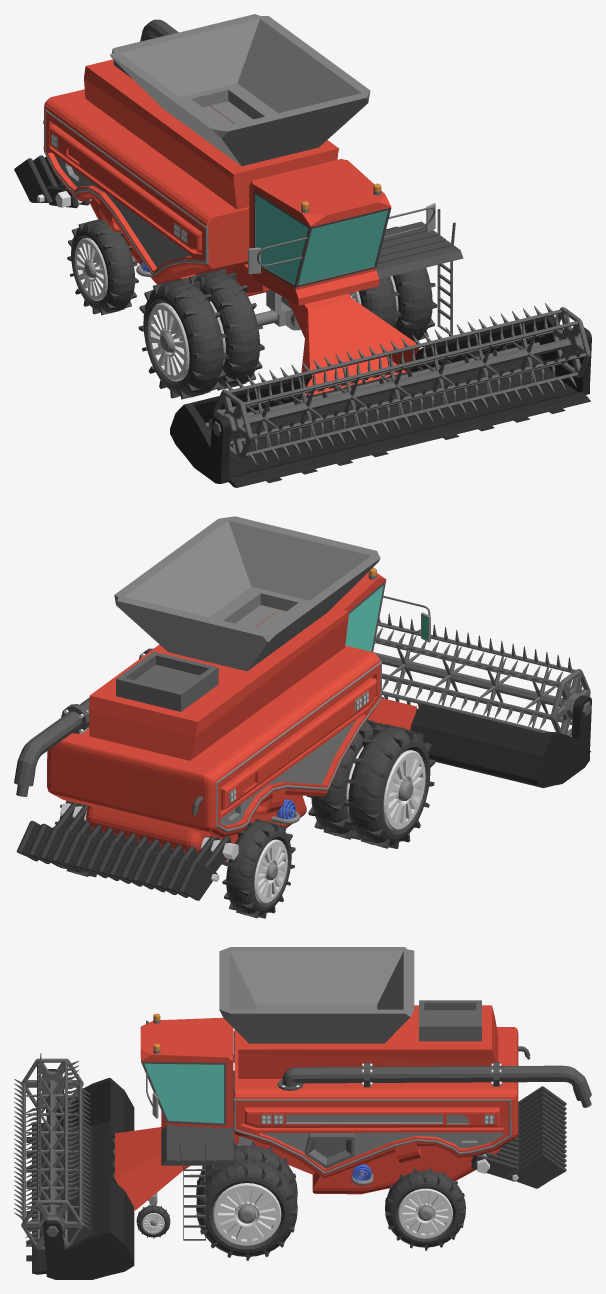
The model's file is harvester w.glass.fbx.
The picture shows the model from 3 angles, top to bottom: view 1: azimuth 30°, elevation 25°; view 2: azimuth 150°, elevation 25°; view 3: azimuth 270°, elevation 25°; orthographic projection. The views are drawn at different scales.
Parts seen in each view (by area): view 1: harvester.001, cutterbar.001, cutterblades.001, wheel04.001, whell06.001, whell03.001, harvesterback.001, platformauger.001; view 2: harvester.001, wheel04.001, harvesterback.001, cutterblades.001, cutterbar.001, whell06.001, pipe.001; view 3: harvester.001, cutterbar.001, cutterblades.001, whell03.001, pipe.001, harvesterback.001, whell05.001, whell01.001.
Part boxes in pixels (x1,y1,x2,y2): harvester.001: (43, 14, 463, 397); cutterbar.001: (170, 315, 591, 487); cutterblades.001: (212, 303, 590, 464); wheel04.001: (138, 268, 264, 399); whell06.001: (67, 218, 138, 315); whell03.001: (349, 226, 437, 341); harvesterback.001: (14, 155, 91, 208); platformauger.001: (205, 340, 539, 427); harvester.001: (47, 516, 430, 864); wheel04.001: (306, 719, 435, 848); harvesterback.001: (16, 802, 238, 900); cutterblades.001: (373, 613, 591, 735); cutterbar.001: (382, 695, 591, 787); whell06.001: (222, 819, 295, 918); pipe.001: (14, 648, 153, 796); harvester.001: (115, 947, 530, 1240); cutterbar.001: (26, 1069, 134, 1279); cutterblades.001: (14, 1053, 90, 1250); whell03.001: (196, 1141, 297, 1260); pipe.001: (277, 1062, 591, 1107); harvesterback.001: (471, 1086, 566, 1188); whell05.001: (385, 1167, 465, 1250); whell01.001: (136, 1204, 170, 1238).
Size of the model in its own units: 191 by 130 by 300.
